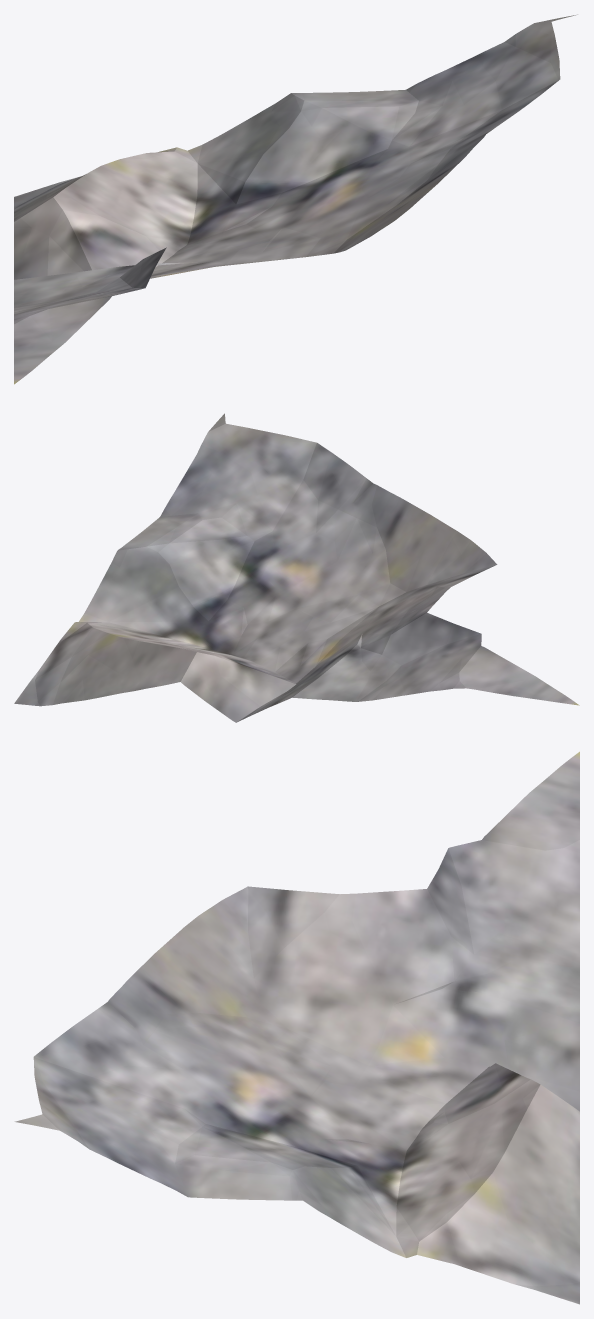
The picture shows the model from 3 angles, top to bottom: view 1: azimuth 90°, elevation 25°; view 2: azimuth 150°, elevation 25°; view 3: azimuth 270°, elevation 25°; orthographic projection. The views are drawn at different scales.
Size of the model in its own units: 1.61 by 0.3703 by 1.04.
1 material, 1 textured.
